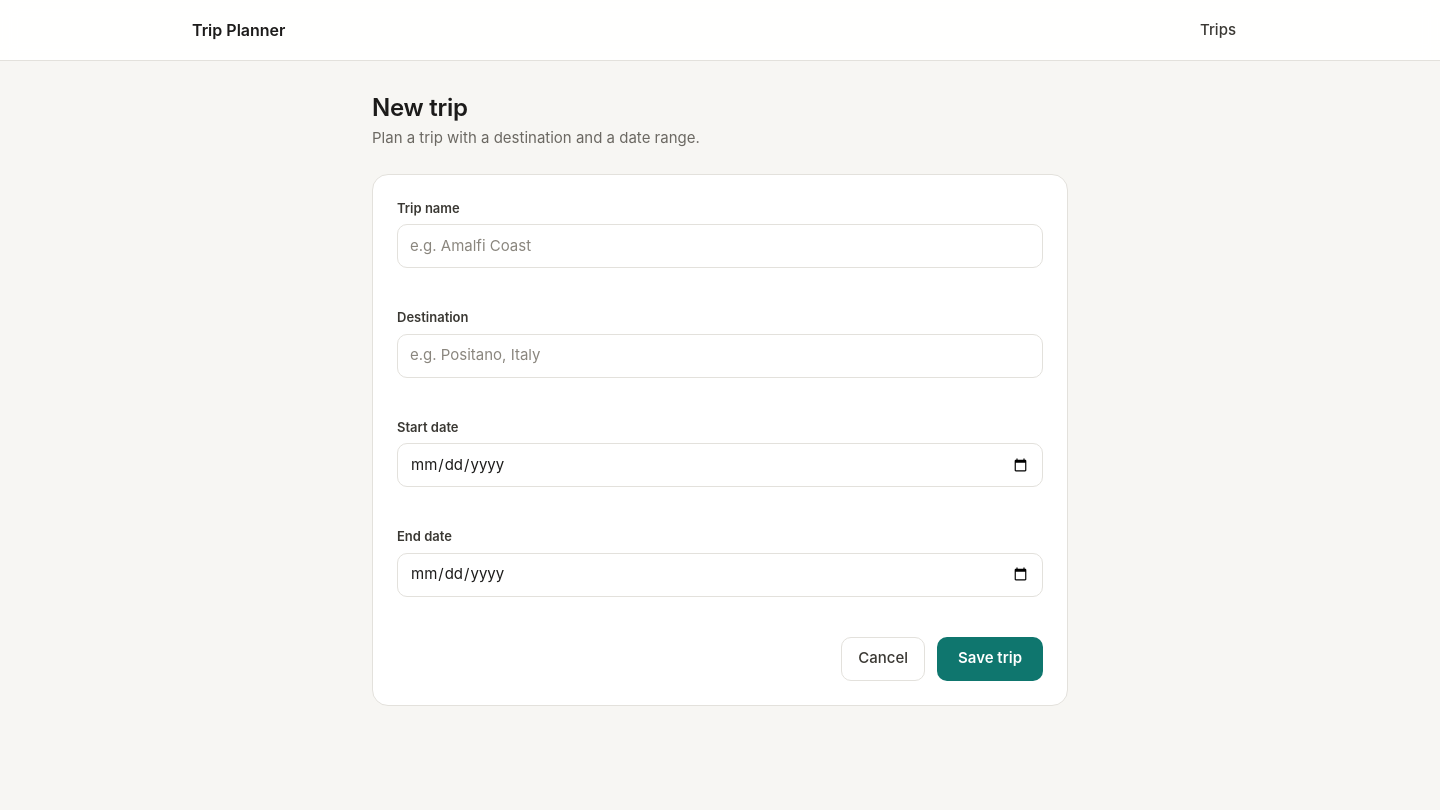
Scenario: TripsPage › refuses to save an empty form and shows the errors at their fields
Click the button "Save trip": (990, 658) top-left (937, 636), bottom-right (1043, 680)
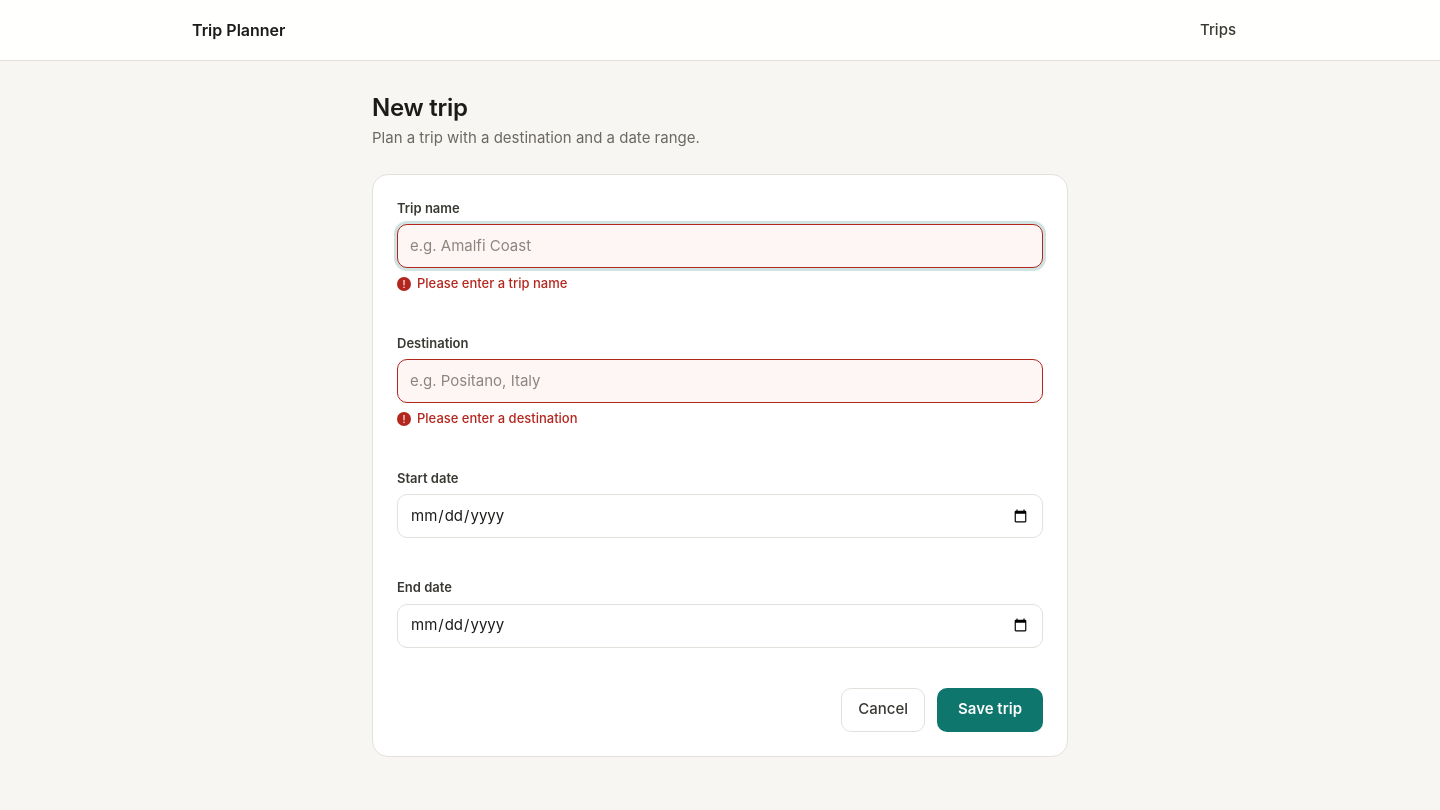
Check: the heading "New trip" is shown, box top-left (372, 93), bottom-right (468, 122)
Check: the text "Please enter a trip name" is shown, box top-left (417, 275), bottom-right (567, 291)
Check: the text "Please enter a destination" is shown, box top-left (417, 410), bottom-right (578, 426)
